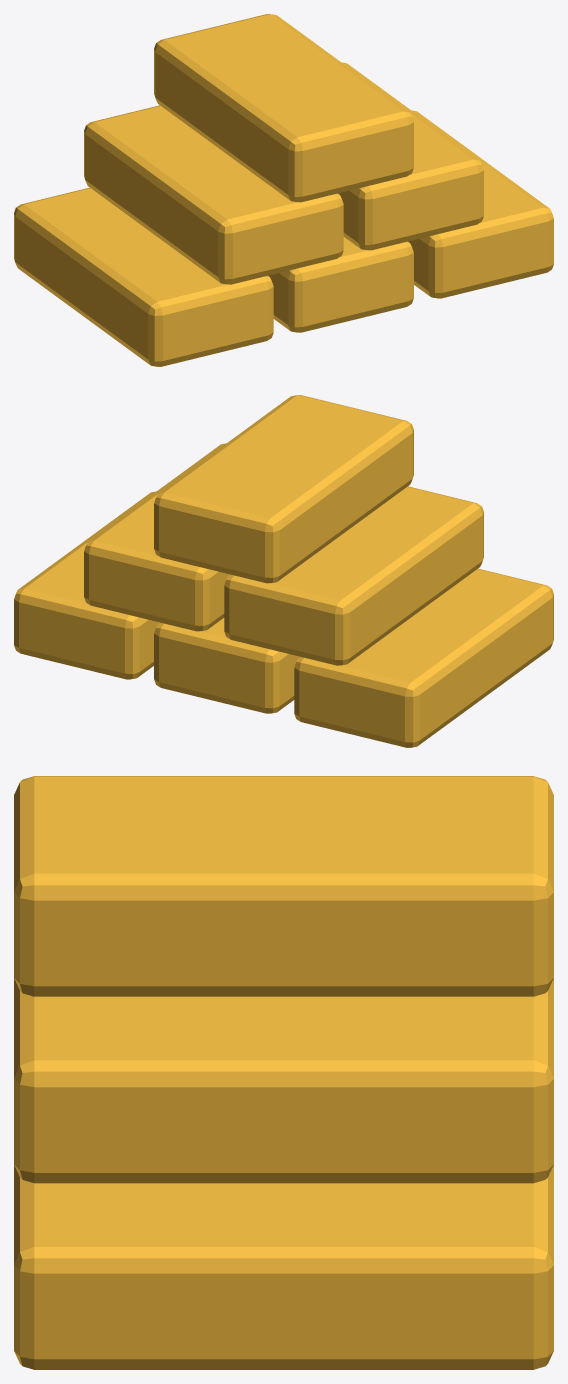
The model's file is GoldBars.fbx.
3 renders of one model, top to bottom at view 1: azimuth 30°, elevation 25°; view 2: azimuth 150°, elevation 25°; view 3: azimuth 270°, elevation 25°, orthographic. The views are drawn at different scales.
Visible parts, largest first — view 1: Gold_Bar6, Gold_Bar4, Gold_Bar1, Gold_Bar5, Gold_Bar3, Gold_Bar2; view 2: Gold_Bar6, Gold_Bar4, Gold_Bar1, Gold_Bar5, Gold_Bar3, Gold_Bar2; view 3: Gold_Bar6, Gold_Bar5, Gold_Bar3.
Part boxes in pixels (x1,y1,x2,y2): Gold_Bar6: [154, 14, 413, 202]; Gold_Bar4: [84, 105, 343, 284]; Gold_Bar1: [14, 187, 273, 366]; Gold_Bar5: [338, 62, 483, 250]; Gold_Bar3: [408, 110, 553, 298]; Gold_Bar2: [268, 237, 413, 332]; Gold_Bar6: [154, 395, 413, 583]; Gold_Bar4: [224, 486, 483, 665]; Gold_Bar1: [294, 568, 553, 747]; Gold_Bar5: [84, 443, 229, 631]; Gold_Bar3: [14, 491, 159, 679]; Gold_Bar2: [154, 618, 299, 713]; Gold_Bar6: [14, 776, 553, 996]; Gold_Bar5: [14, 980, 553, 1183]; Gold_Bar3: [14, 1166, 553, 1369].
Bounding box in the file's own units: 5.2 × 2.4 × 3.2.
